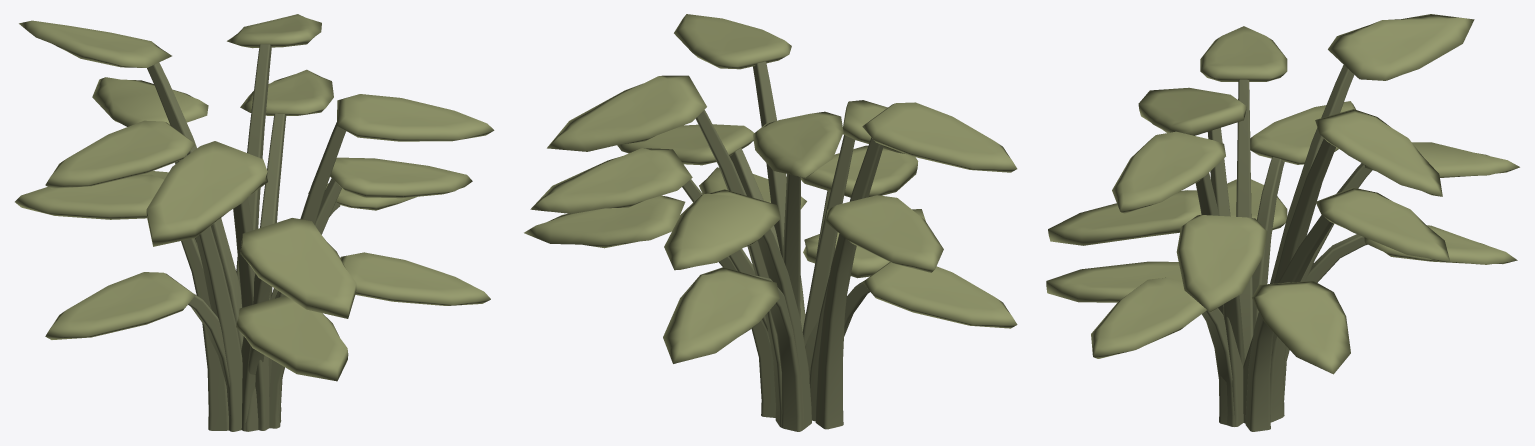
The picture shows the model from 3 angles, left to right: view 1: azimuth 30°, elevation 25°; view 2: azimuth 150°, elevation 25°; view 3: azimuth 270°, elevation 25°; orthographic projection. The views are drawn at different scales.
Parts seen in each view (by area): view 1: Leaf (×14), Stem (×11); view 2: Leaf (×15), Stem (×13); view 3: Leaf (×15), Stem (×12).
Part boxes in pixels (box(x1,y1,x2,y2)): Leaf (×14): box(15, 14, 494, 381); Stem (×11): box(147, 44, 346, 431); Leaf (×15): box(524, 14, 1017, 363); Stem (×13): box(679, 61, 883, 431); Leaf (×15): box(1046, 14, 1519, 374); Stem (×12): box(1195, 65, 1372, 431).
Size of the model in its own units: 0.1502 by 0.1157 by 0.1432.
